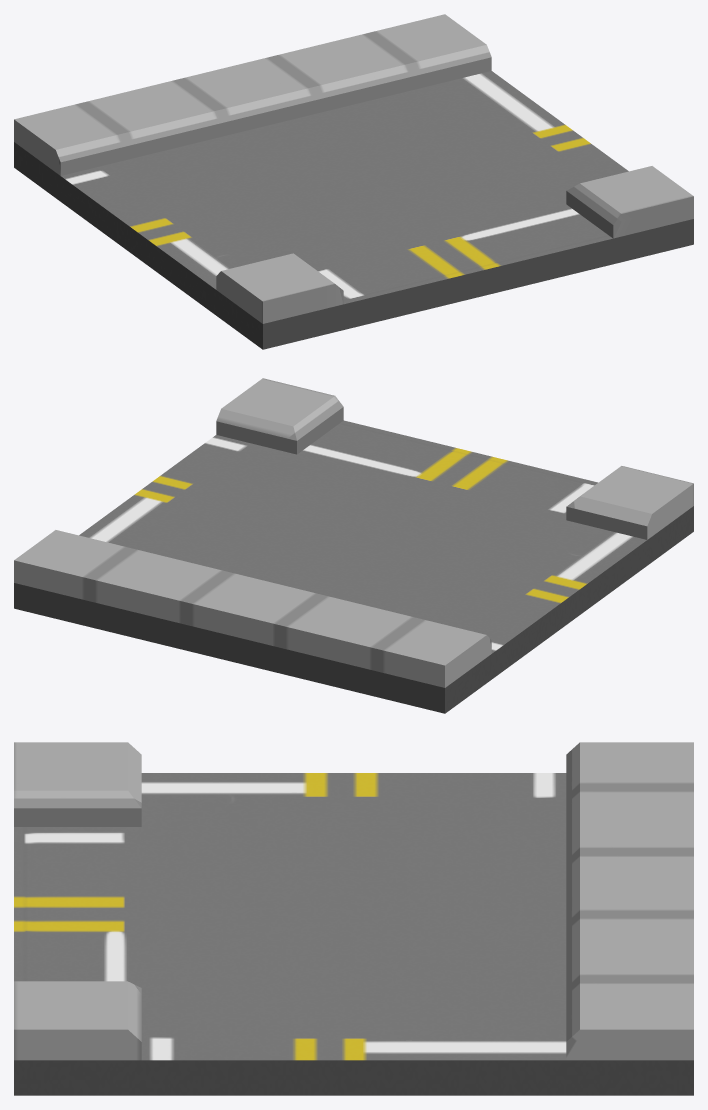
The model's file is RoadT.FBX.
The picture shows the model from 3 angles, top to bottom: view 1: azimuth 30°, elevation 25°; view 2: azimuth 150°, elevation 25°; view 3: azimuth 270°, elevation 25°; orthographic projection. The views are drawn at different scales.
Parts seen in each view (by area): view 1: RoadT; view 2: RoadT; view 3: RoadT.
Part boxes in pixels (bbox=[...]): RoadT: bbox=[14, 14, 693, 349]; RoadT: bbox=[14, 378, 693, 713]; RoadT: bbox=[14, 742, 693, 1095].
Bounding box in the file's own units: 5.08 × 0.5438 × 5.08.
Materials: 1 (1 with a texture image).
